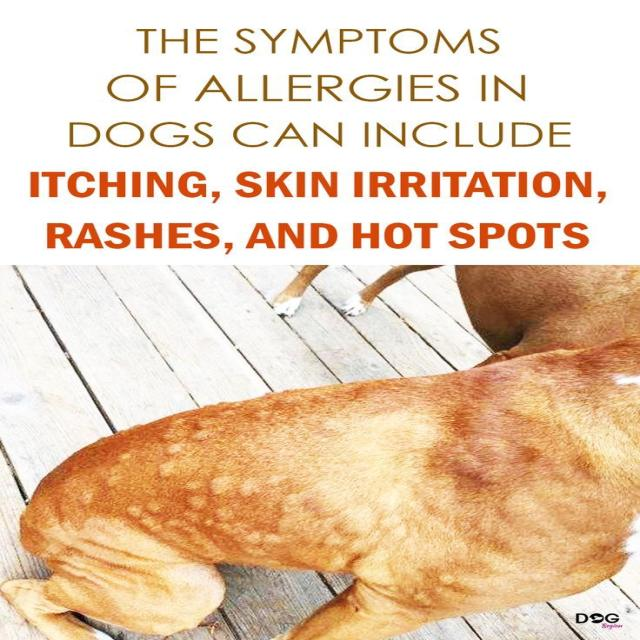allergic dermatitis: (136, 429, 356, 559), (105, 415, 225, 494)
